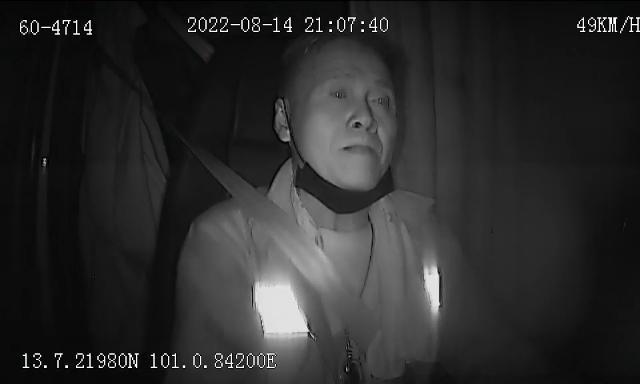SafeDriving: (362, 83, 393, 113), (325, 78, 355, 108)
Seatbelt: (192, 148, 384, 360)
